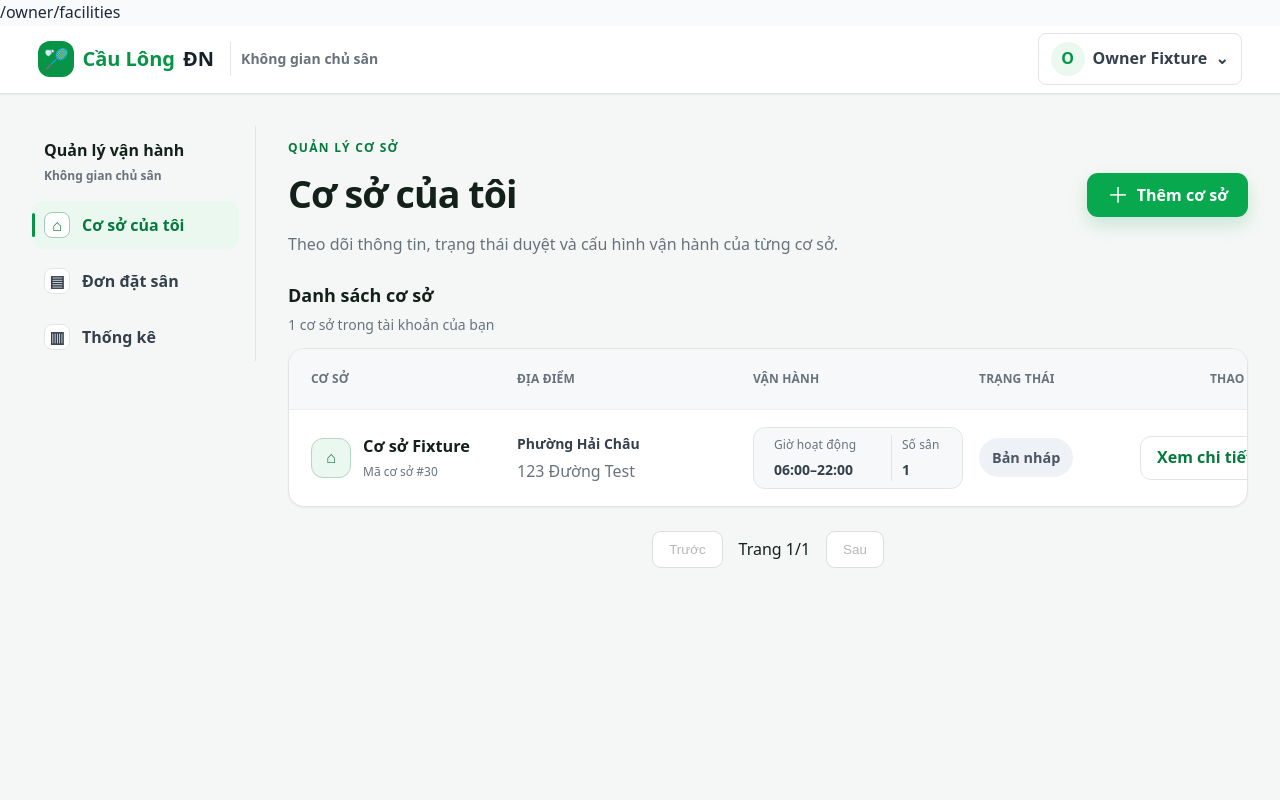
Test: Owner workspace logout remains authoritative and replaces protected content
This screenshot has width=1280, height=800.
Check: the text "Cơ sở Fixture" is shown, box [363,435,470,457]
Click the button "O Owner Fixture ⌄" at (1140, 59), box [1038,33,1242,85]
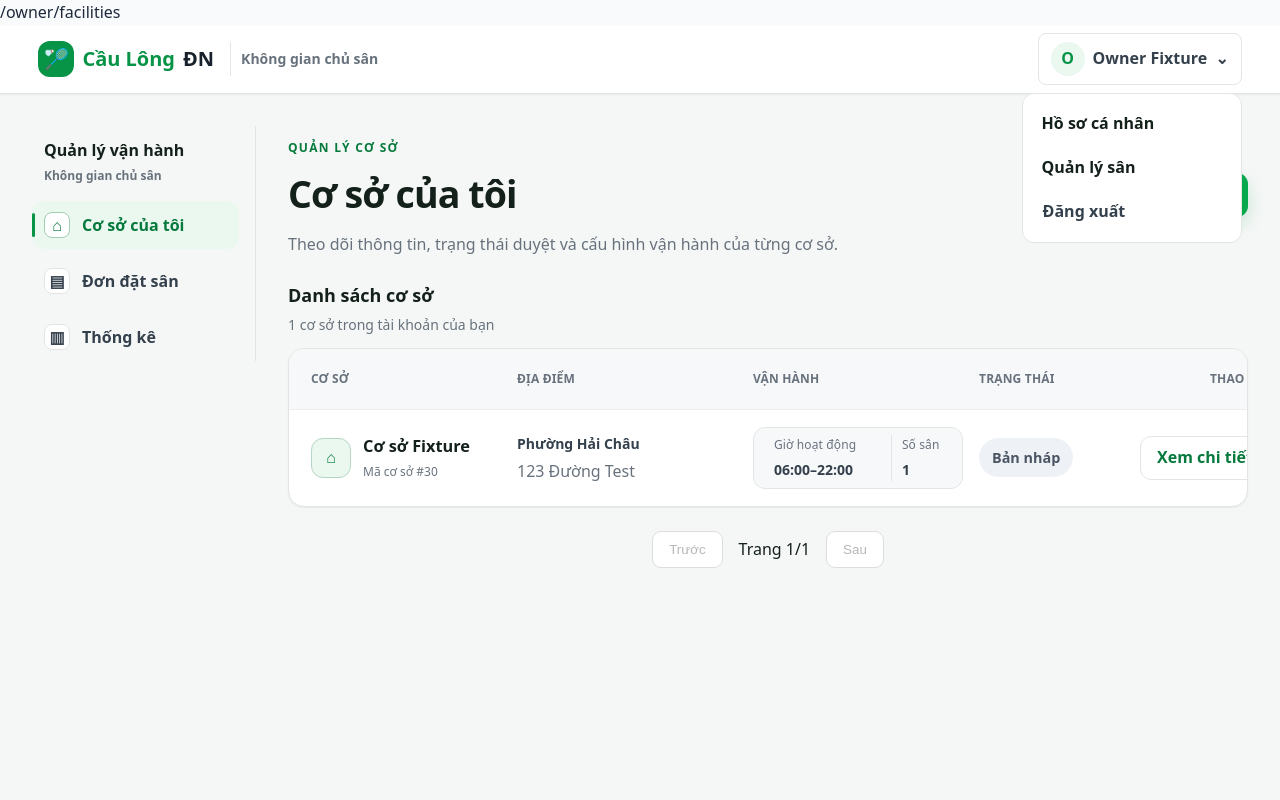
Click the menu item "Đăng xuất" at (1132, 212), box [1031,190,1233,234]
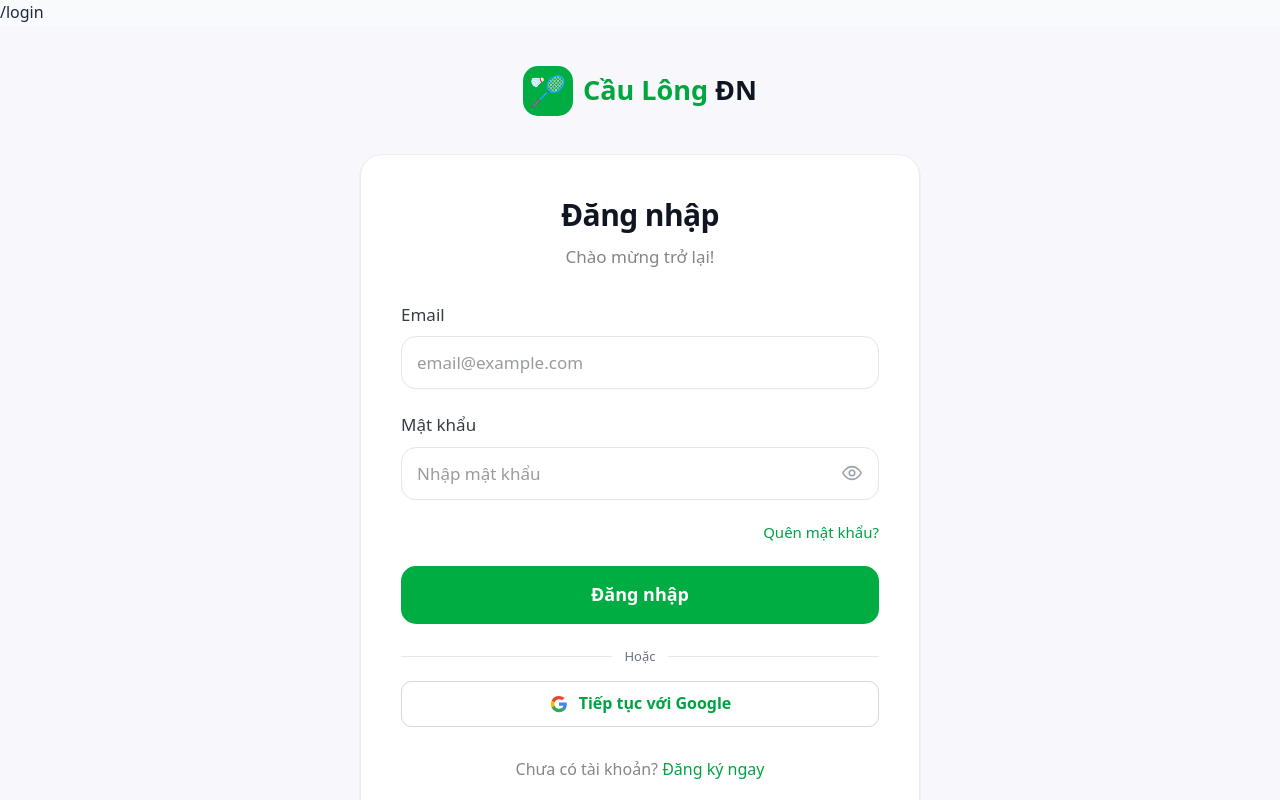
Check: the text with test id "location" reads "/login", box [0,1,44,23]
Check: the text "Cơ sở Fixture" is gone
